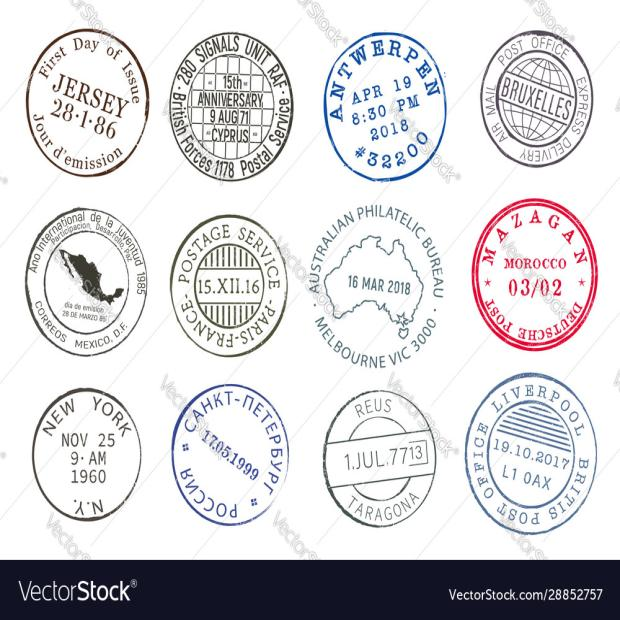Ink-stamps: (305, 209, 449, 373), (458, 375, 604, 536), (167, 27, 303, 187), (23, 22, 154, 180), (320, 35, 456, 184), (465, 203, 600, 351), (17, 208, 147, 360), (14, 387, 148, 527), (166, 386, 294, 528), (165, 213, 288, 358), (323, 389, 444, 532), (475, 32, 598, 172)
